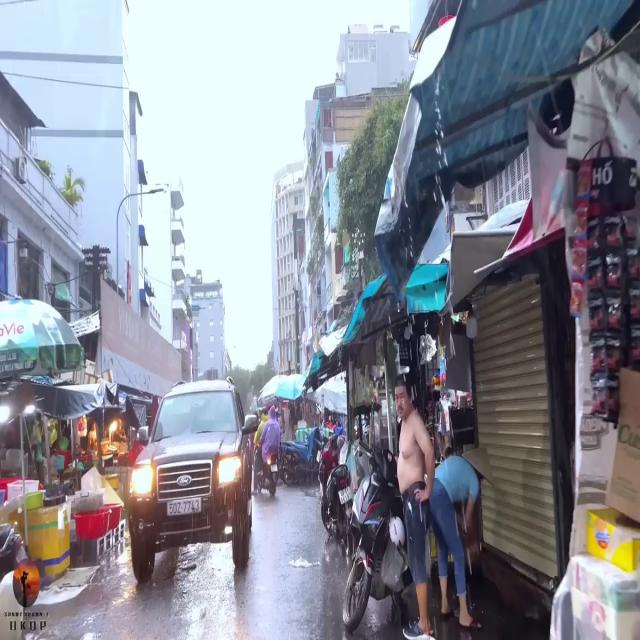bien_trang: (166, 500, 204, 514), (336, 488, 351, 505)
